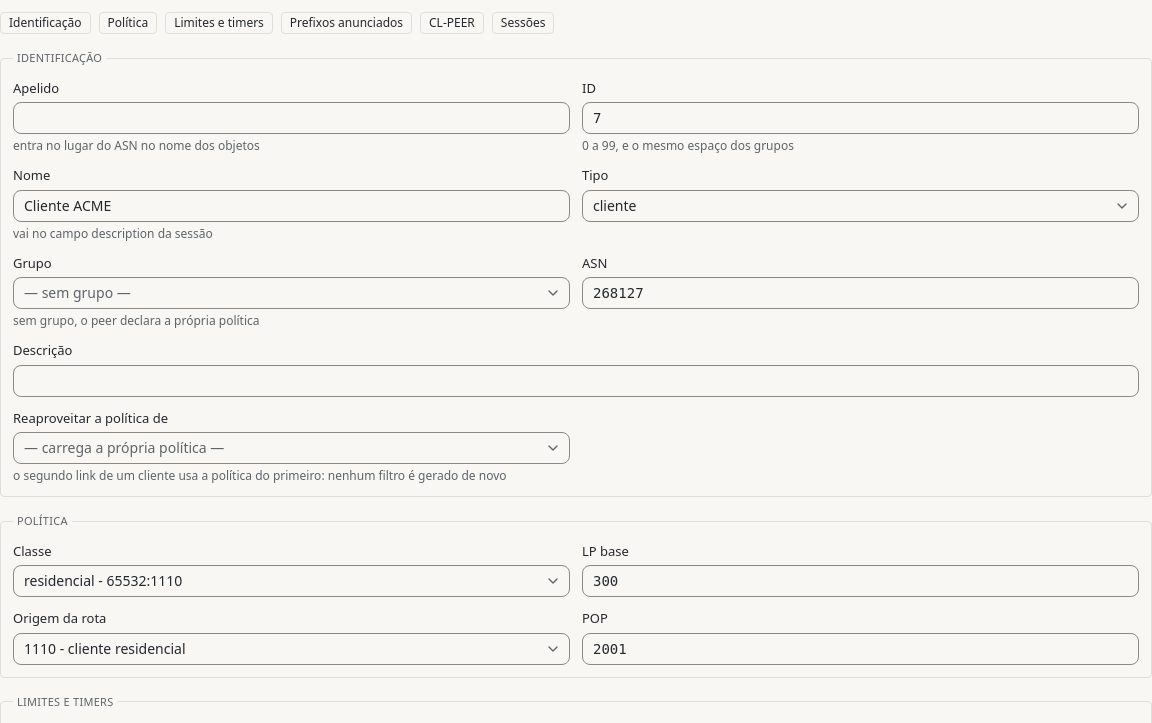
Test: o formulario do peer › a lista de origem so traz peer do mesmo tipo e ASN, e dono da politica
Click the dropdown named "reaproveitar": click(124, 448) x1=13 y1=432 x2=570 y2=464
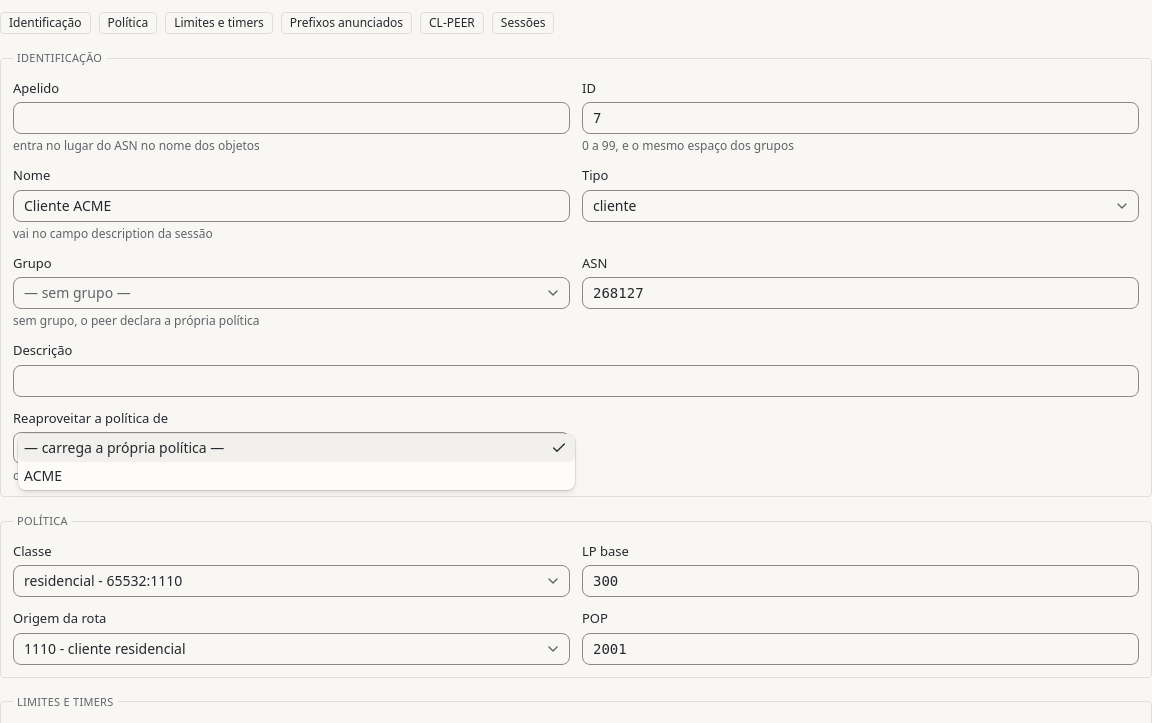
Expected: the options "ACME" read "ACME", in this order, x1=24 y1=466 x2=62 y2=485
